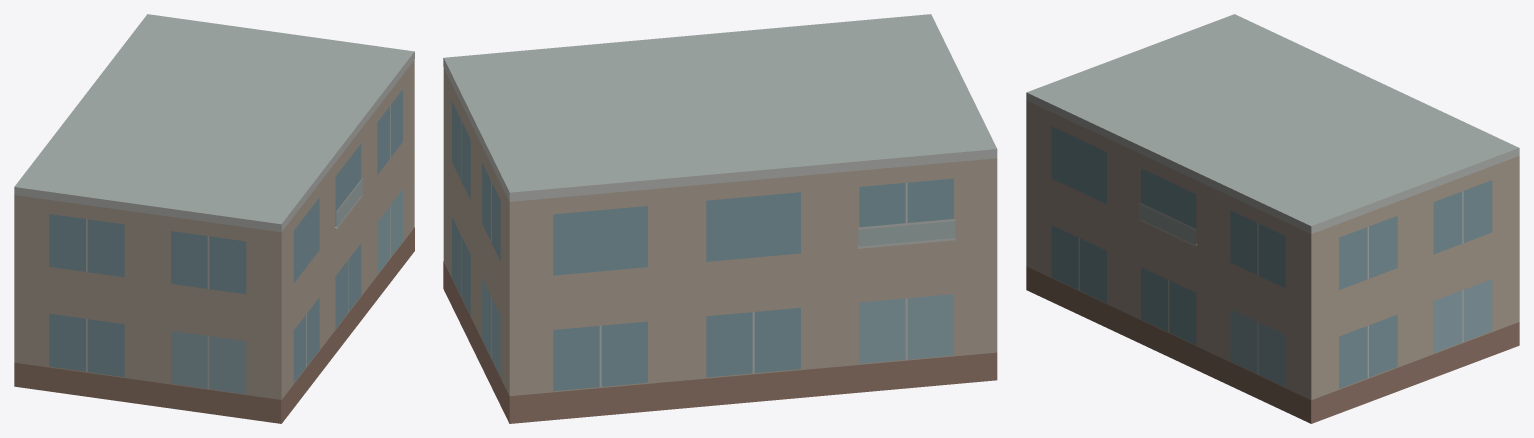
File: survey-upis-32803891.glb
3 views of the same model, side by side, from view 1: azimuth 30°, elevation 25°; view 2: azimuth 150°, elevation 25°; view 3: azimuth 270°, elevation 25° (orthographic). The views are drawn at different scales.
Visible parts, largest first — view 1: survey-upis-32803891.tmp; view 2: survey-upis-32803891.tmp; view 3: survey-upis-32803891.tmp.
Boxes of the visible parts, <box> form: survey-upis-32803891.tmp: <box>14,14,414,423</box>; survey-upis-32803891.tmp: <box>443,14,997,423</box>; survey-upis-32803891.tmp: <box>1026,14,1519,423</box>.
Bounding box in the file's own units: 14.06 × 6.1 × 13.8.
